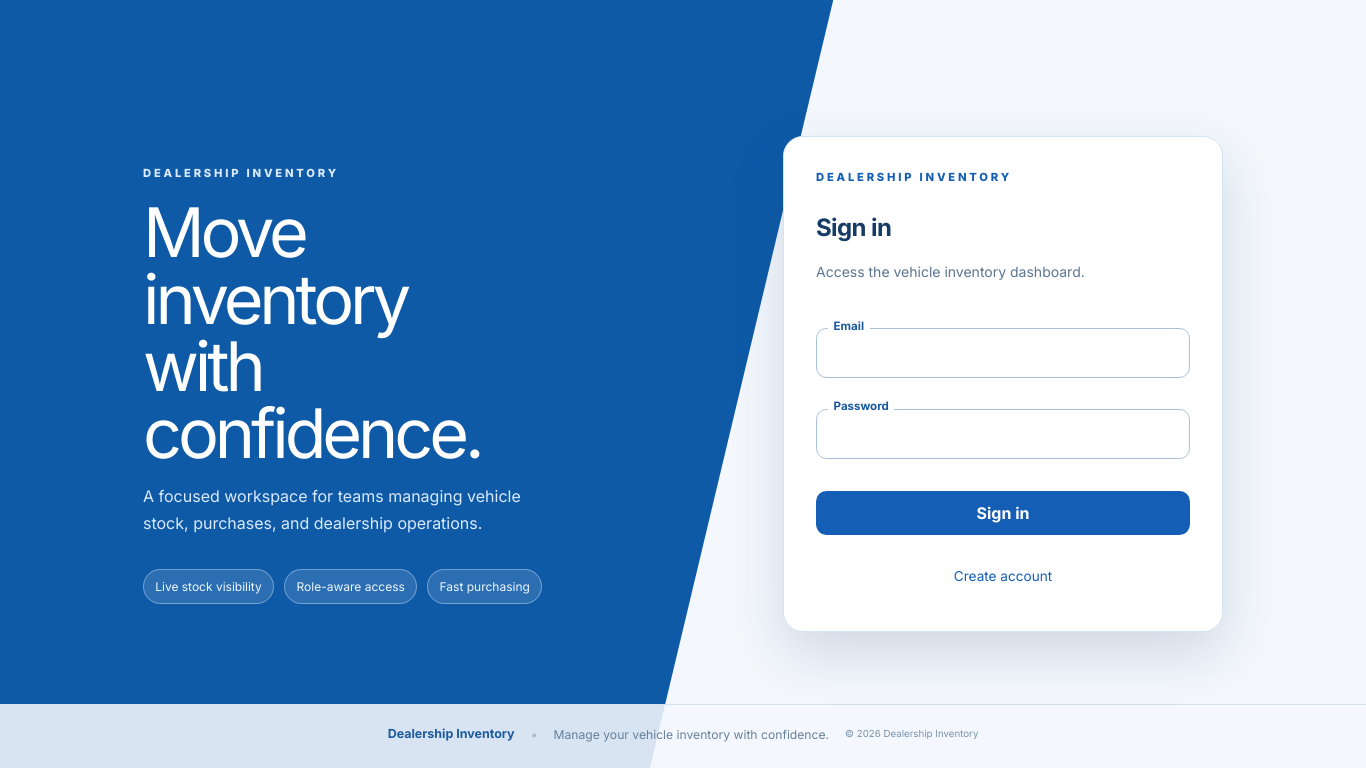
Test: App › switches to the registration form
Click the button "Create account". click: (1003, 577)
box: [816,555,1190,599]
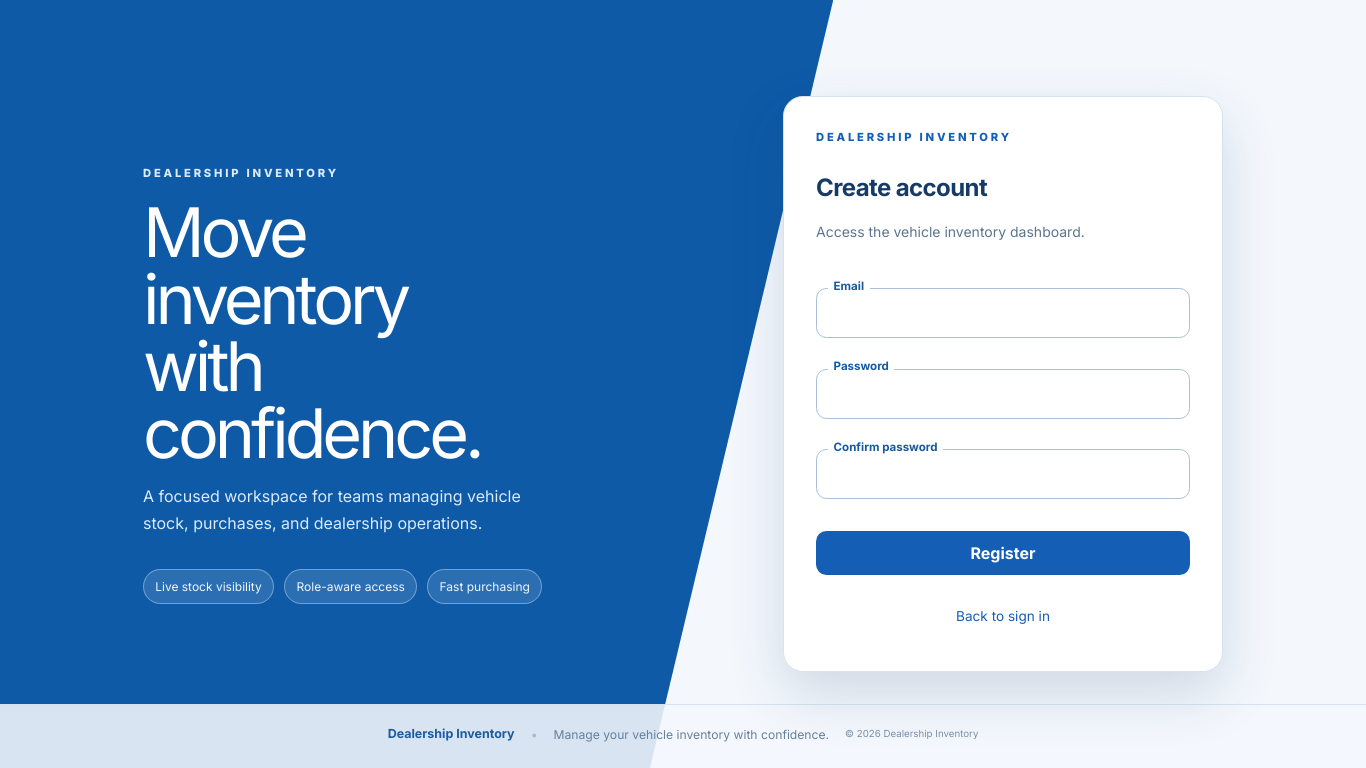
Now the heading "Create account" is shown, box [816,173,987,202]
Now the password field labelled "Confirm password" is shown, box [816,449,1190,499]
Now the button "Register" is shown, box [816,531,1190,575]
